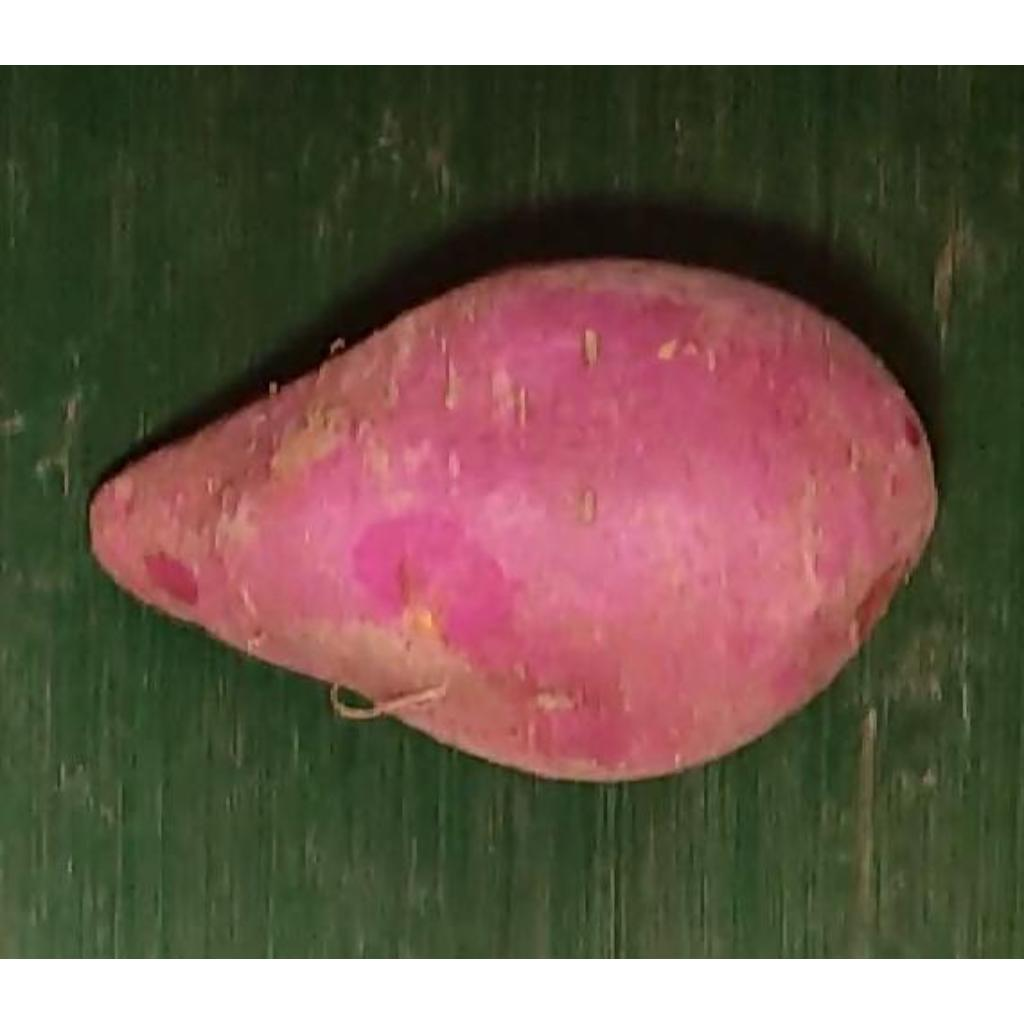Sweet Potato: (90, 259, 940, 787)
